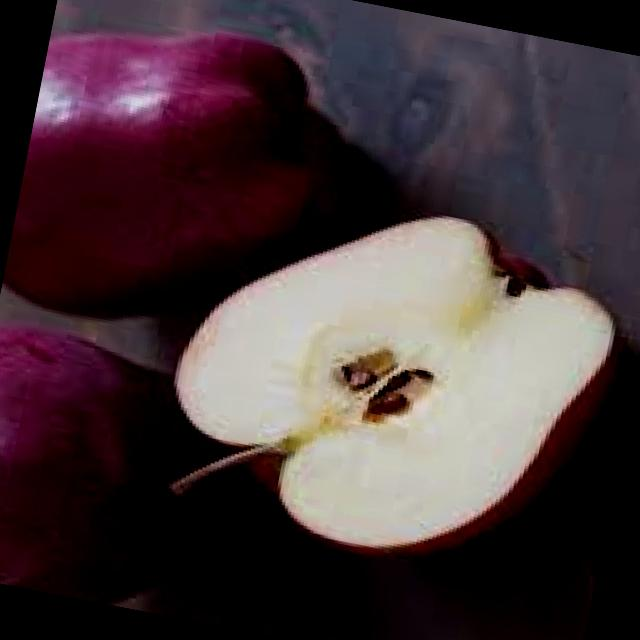Red Apple: (0, 1, 352, 359), (0, 320, 192, 611)
Used Apple: (151, 169, 630, 591)
